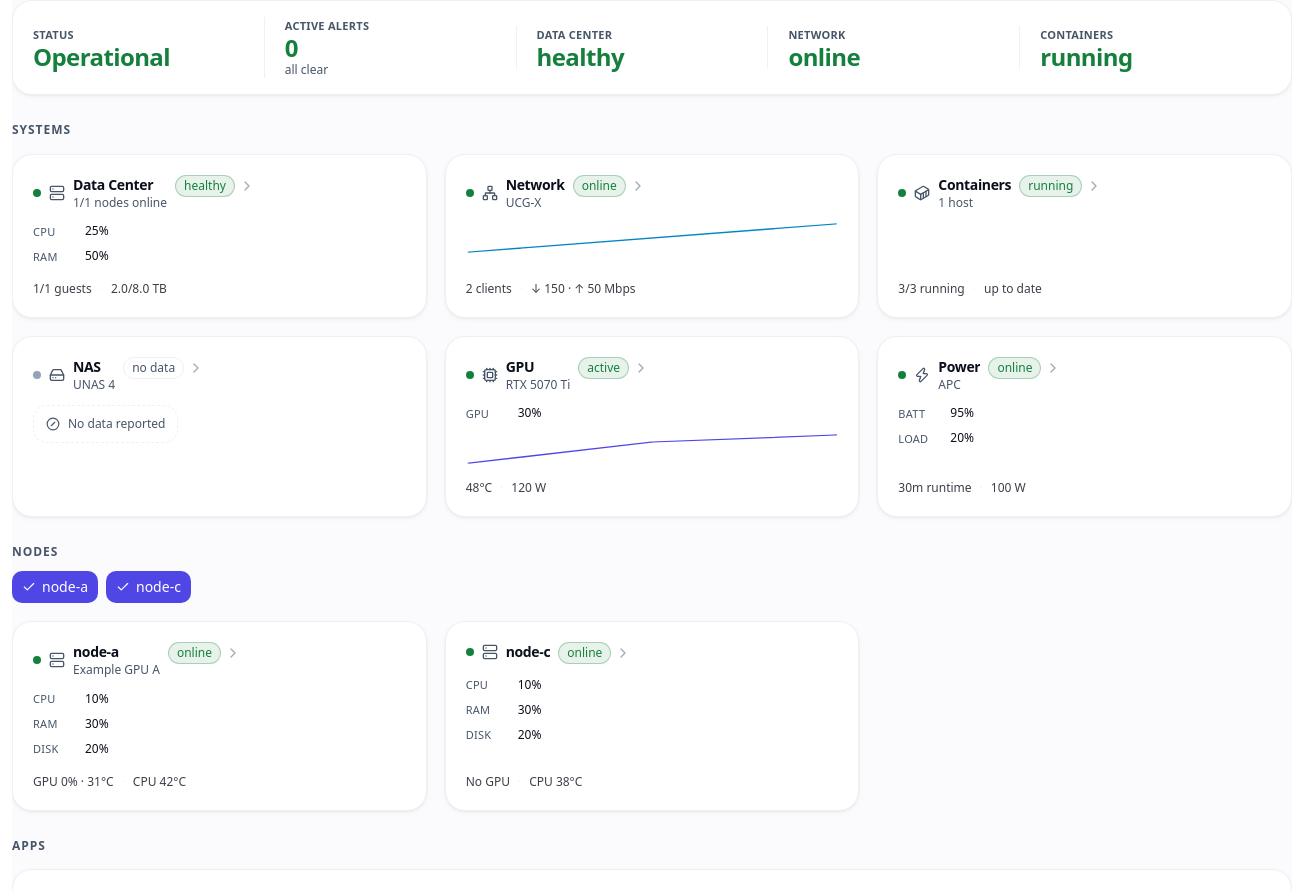
Test: OverviewPage › toggling a node off hides its tile and persists the selection
Check: the text "No GPU" is shown, box [466,774,510,790]
Step 1. Click the button "node-c" → [148, 587], box [106,571,191,603]
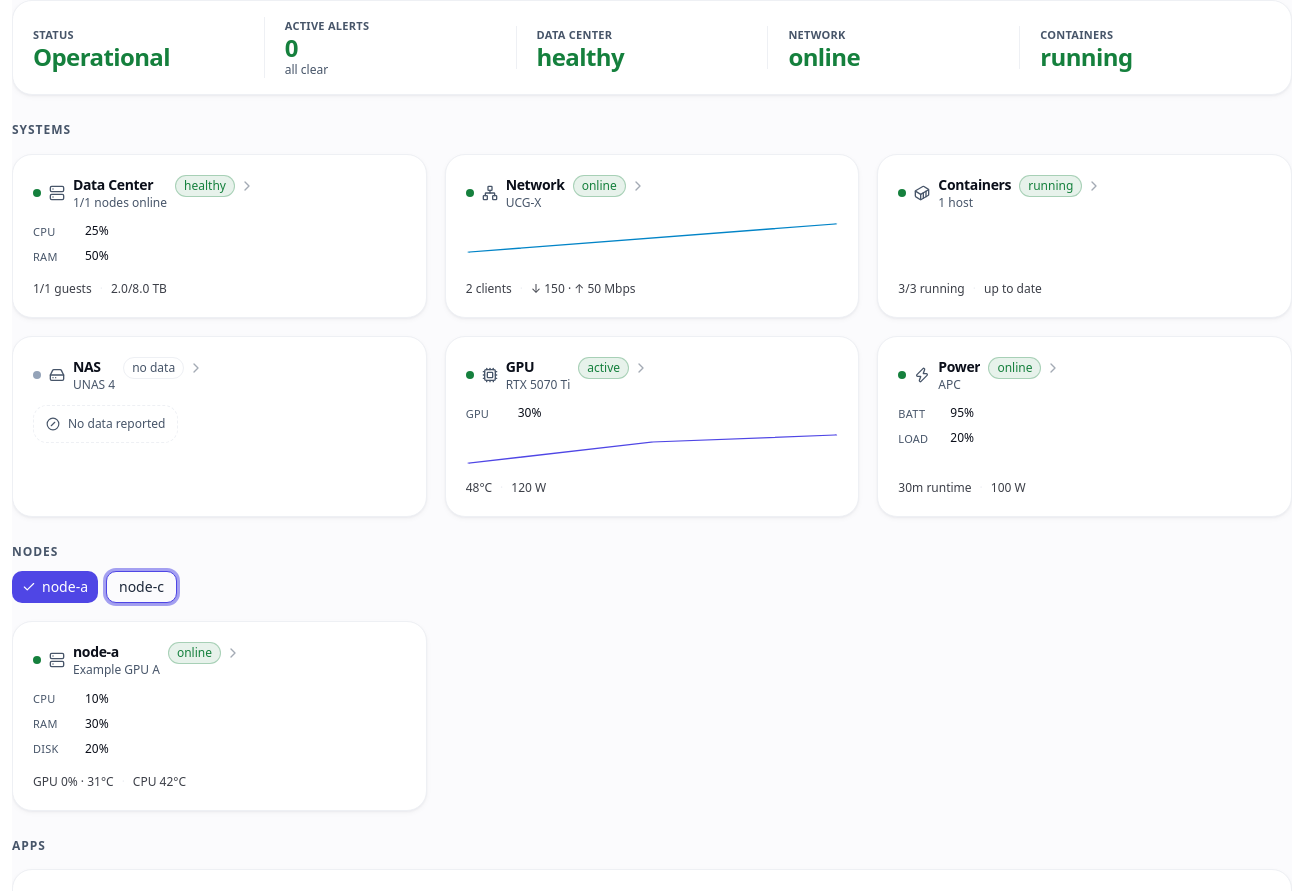
Check: the text "Example GPU A" is shown, box [73,662,160,678]
Check: the button "No GPU" is gone
